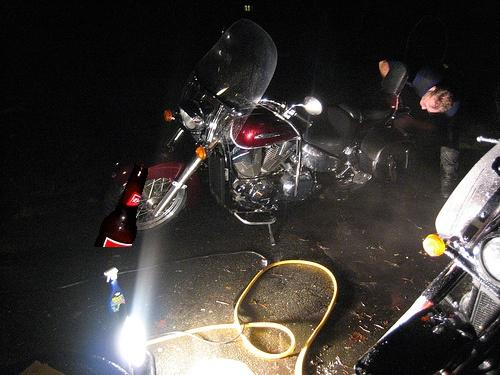tampered: (95, 164, 148, 247)
